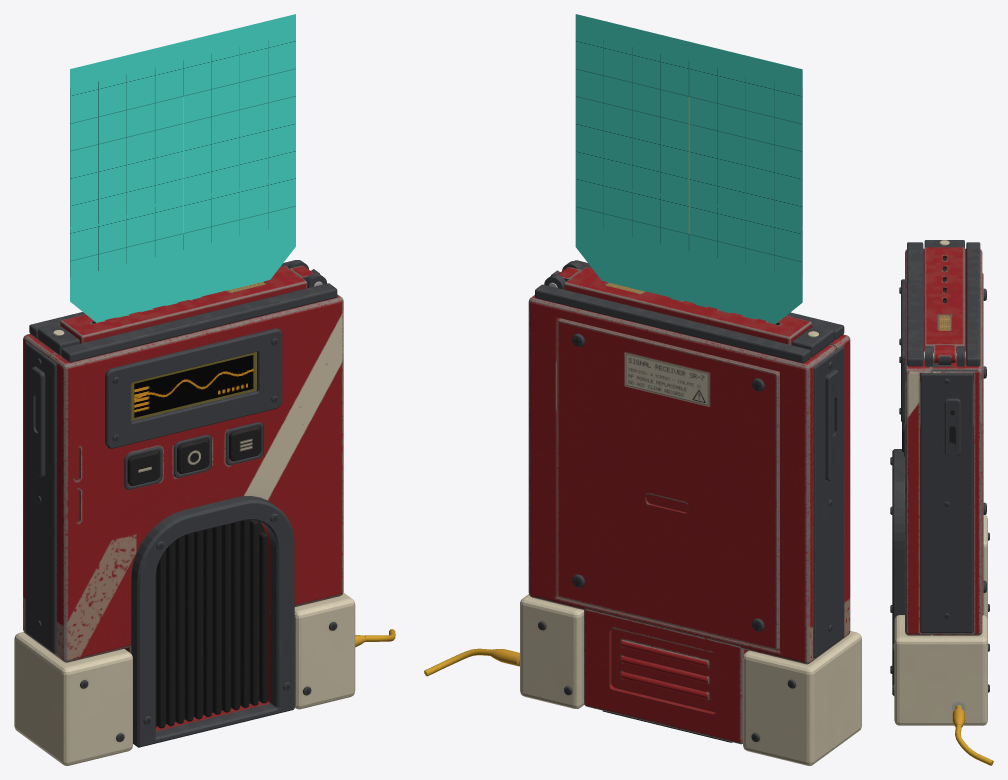
Rendered from Receiver.fbx.
3 views of the same model, side by side, from view 1: azimuth 30°, elevation 25°; view 2: azimuth 150°, elevation 25°; view 3: azimuth 270°, elevation 25° (orthographic). The views are drawn at different scales.
Parts seen in each view (by area): view 1: RX_LightCurtain_Locked, RX_FrontShell, RX_GrilleInsert, RX_GrilleFrame, RX_CornerGuard_L, RX_ScreenBezel, RX_SideRail_L, RX_CornerGuard_R, RX_TopStrip, RX_TopRail_Front, RX_ScreenState_Locked, RX_ButtonBezels (+6 smaller); view 2: RX_RearCover, RX_LightCurtain_Locked, RX_RearShell, RX_CornerGuard_L, RX_SideRail_L, RX_CornerGuard_R, RX_TopStrip, RX_TopRail_Rear, RX_FrontShell, RX_TestLead, RX_StripLatch; view 3: RX_SideRail_R, RX_CornerGuard_R, RX_FrontShell, RX_TopStrip, RX_RearShell, RX_GrilleFrame, RX_TopRail_Front, RX_TopRail_Rear, RX_RearCover, RX_ScreenBezel, RX_TestLead, RX_CornerGuard_L (+1 smaller).
Part boxes in pixels (x1,y1,x2,y2): RX_LightCurtain_Locked: [70, 14, 295, 322]; RX_FrontShell: [50, 294, 343, 731]; RX_GrilleInsert: [155, 520, 267, 728]; RX_GrilleFrame: [131, 496, 294, 747]; RX_CornerGuard_L: [14, 632, 132, 765]; RX_ScreenBezel: [105, 328, 282, 448]; RX_SideRail_L: [25, 342, 56, 653]; RX_CornerGuard_R: [294, 592, 355, 709]; RX_TopStrip: [60, 265, 319, 343]; RX_TopRail_Front: [61, 283, 337, 362]; RX_ScreenState_Locked: [134, 355, 253, 417]; RX_ButtonBezels: [124, 422, 263, 489]; RX_RearCover: [556, 318, 779, 650]; RX_LightCurtain_Locked: [575, 14, 802, 324]; RX_RearShell: [528, 295, 836, 744]; RX_CornerGuard_L: [743, 631, 861, 765]; RX_SideRail_L: [813, 346, 844, 657]; RX_CornerGuard_R: [520, 594, 584, 708]; RX_TopStrip: [551, 267, 811, 344]; RX_TopRail_Rear: [535, 284, 810, 363]; RX_FrontShell: [830, 334, 850, 643]; RX_TestLead: [424, 648, 519, 676]; RX_StripLatch: [792, 325, 834, 356]; RX_SideRail_R: [920, 372, 973, 633]; RX_CornerGuard_R: [892, 615, 989, 725]; RX_FrontShell: [905, 248, 931, 635]; RX_TopStrip: [924, 247, 964, 363]; RX_RearShell: [931, 248, 982, 635]; RX_GrilleFrame: [890, 449, 904, 695]; RX_TopRail_Front: [907, 242, 923, 366]; RX_TopRail_Rear: [966, 242, 980, 366]; RX_RearCover: [982, 273, 983, 615]; RX_ScreenBezel: [899, 279, 904, 422]; RX_TestLead: [952, 705, 993, 765]; RX_CornerGuard_L: [983, 515, 989, 619].
Size of the model in its own units: 0.1905 by 0.3177 by 0.0496.
Materials: 6 (6 with a texture image).
